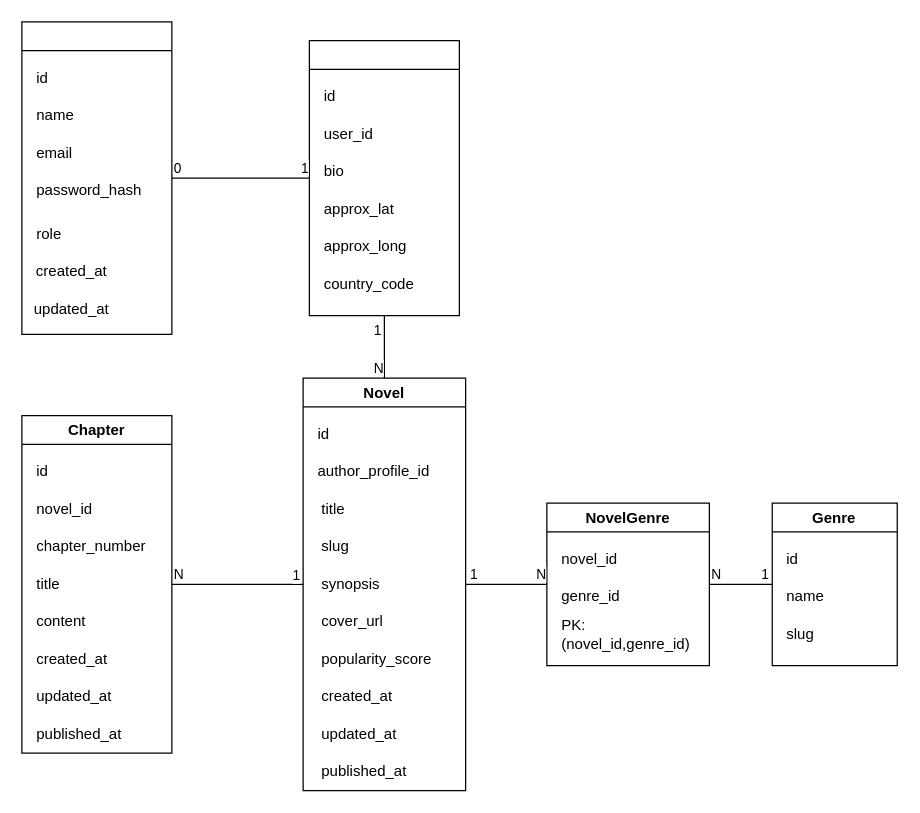
This 920x813 diagram has some shape labels left out. Here are the shapes that lost their labels. From the top down, the box of each, then its label:
(21, 21, 172, 334): User
(308, 39, 459, 316): AuthorProfile
